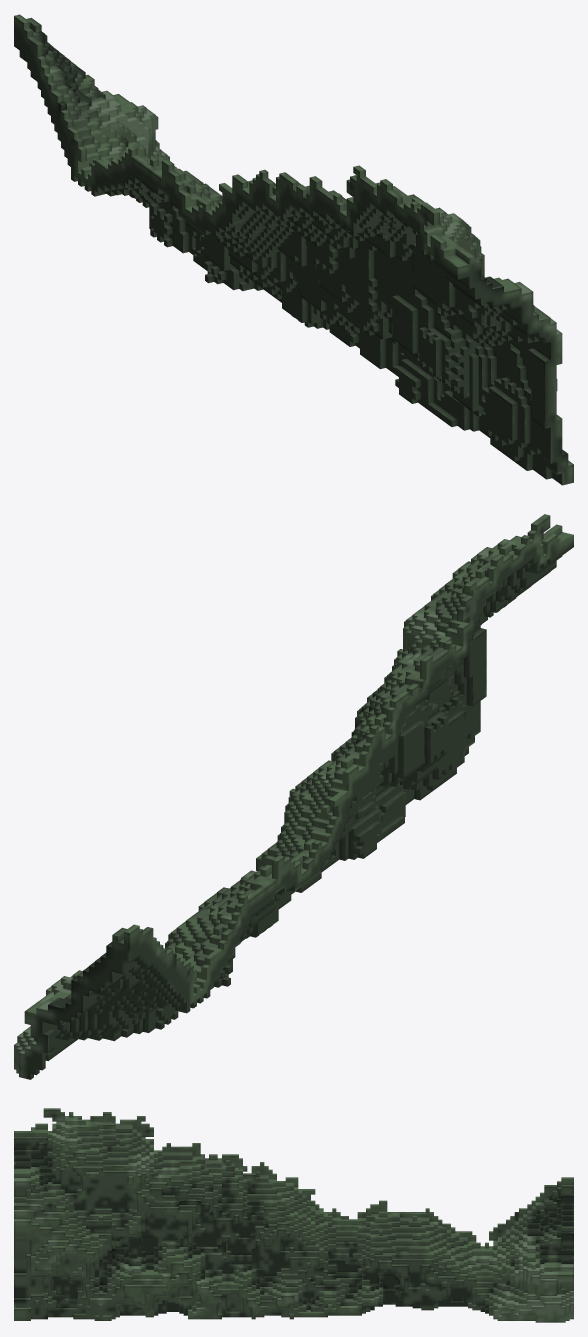
Rendered from treeline01-2-3r.fbx.
The picture shows the model from 3 angles, top to bottom: view 1: azimuth 30°, elevation 25°; view 2: azimuth 150°, elevation 25°; view 3: azimuth 270°, elevation 25°; orthographic projection. The views are drawn at different scales.
Parts seen in each view (by area): view 1: treeline01-2-3r; view 2: treeline01-2-3r; view 3: treeline01-2-3r.
Boxes of the visible parts, <box> form: treeline01-2-3r: <box>14,14,573,485</box>; treeline01-2-3r: <box>14,514,573,1079</box>; treeline01-2-3r: <box>14,1108,573,1322</box>.
Bounding box in the file's own units: 21 × 46 × 132.
